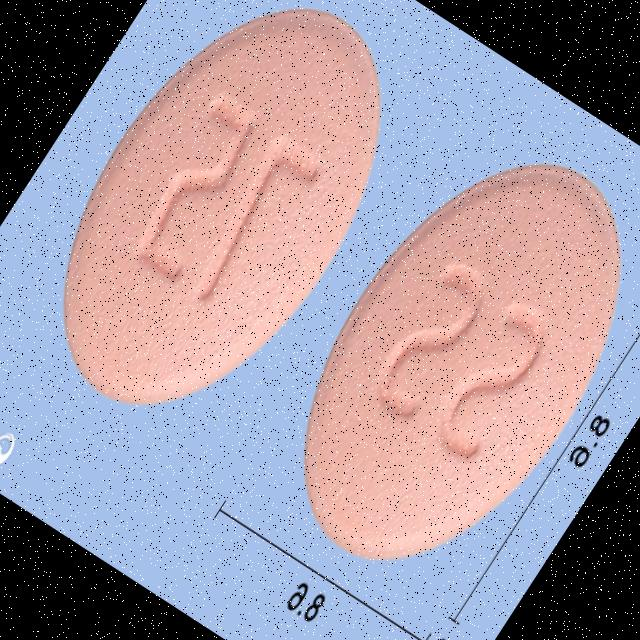Clozex: (0, 0, 448, 460), (239, 106, 640, 614)
